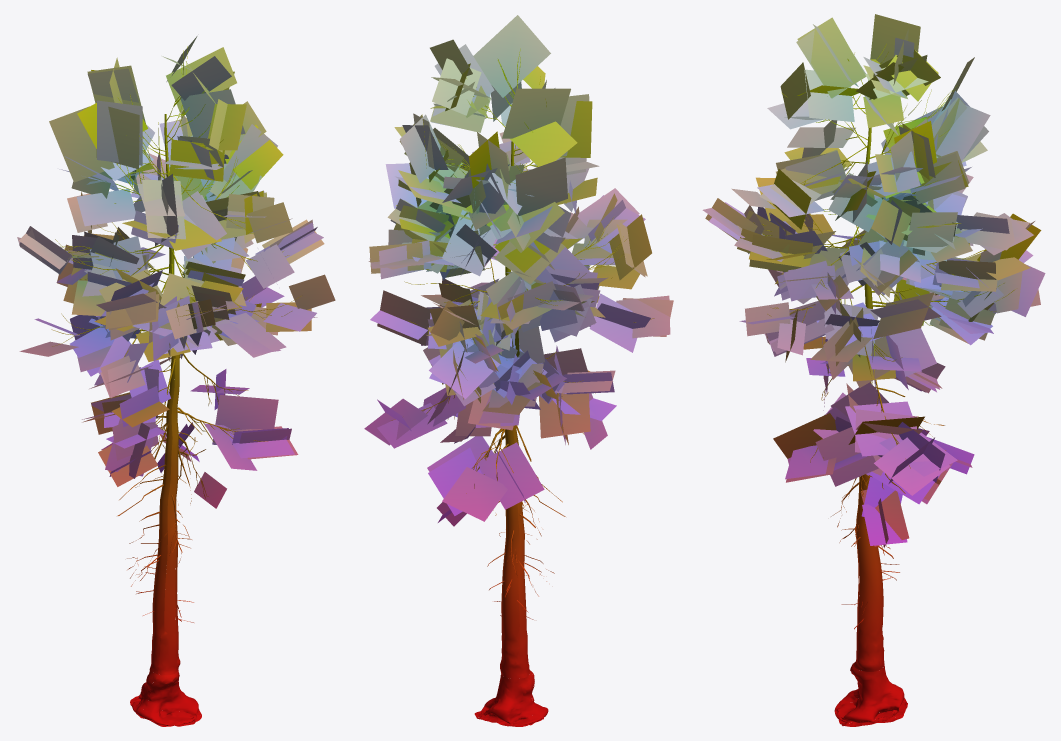
The model's file is fir_b.glb.
3 views of the same model, side by side, from view 1: azimuth 30°, elevation 25°; view 2: azimuth 150°, elevation 25°; view 3: azimuth 270°, elevation 25° (orthographic). The views are drawn at different scales.
Parts seen in each view (by area): view 1: cards_lod0, trunk_lod0, branches_lod0; view 2: cards_lod0, trunk_lod0, branches_lod0; view 3: cards_lod0, trunk_lod0, branches_lod0.
Part boxes in pixels (x1,y1,x2,y2): cards_lod0: (17,36,335,508); trunk_lod0: (130,114,201,726); branches_lod0: (51,46,300,622); cards_lod0: (364,15,673,526); trunk_lod0: (474,141,548,726); branches_lod0: (391,48,654,619); cards_lod0: (702,14,1045,547); trunk_lod0: (834,127,907,726); branches_lod0: (753,44,1015,629).
Size of what is drawn, in the model's own units: 4.49 by 11.28 by 4.96.
